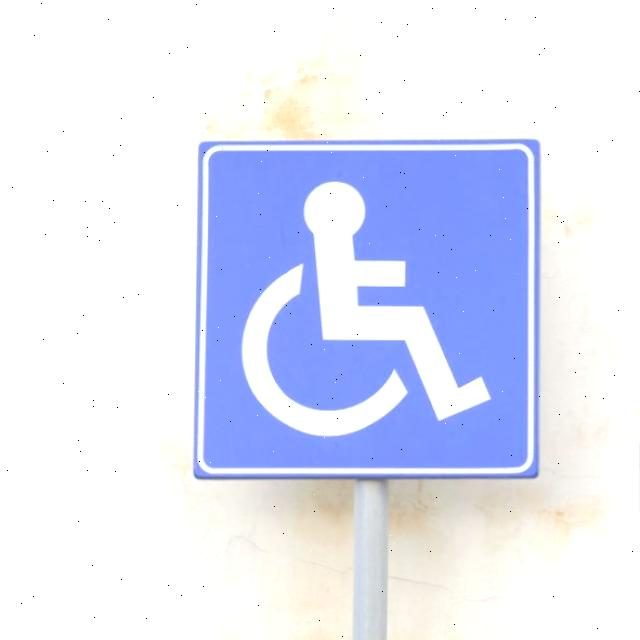symbol_of_access: (189, 136, 545, 482)
